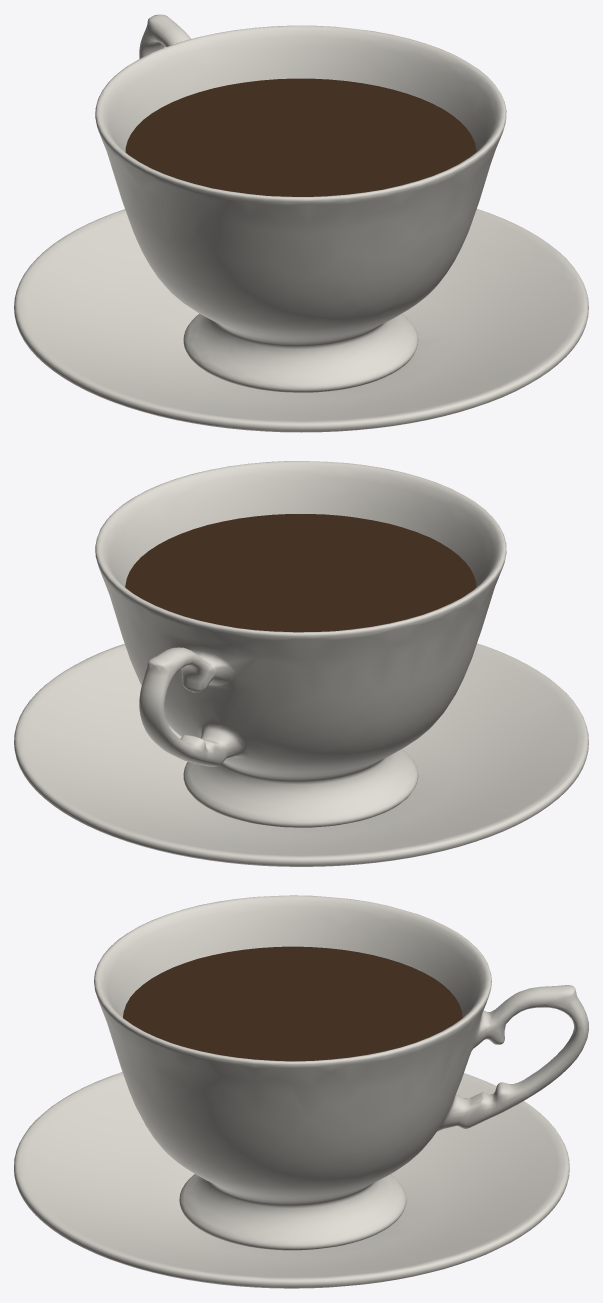
The model's file is coffee-cup.glb.
3 views of the same model, one above another, from view 1: azimuth 30°, elevation 25°; view 2: azimuth 150°, elevation 25°; view 3: azimuth 270°, elevation 25° (orthographic). The views are drawn at different scales.
Parts seen in each view (by area): view 1: tea_cup, tea_saucer, coffee_surface; view 2: tea_cup, tea_saucer, coffee_surface; view 3: tea_cup, tea_saucer, coffee_surface.
Part boxes in pixels (<box>): tea_cup: <box>95,14,506,392</box>; tea_saucer: <box>14,209,588,432</box>; coffee_surface: <box>125,78,476,196</box>; tea_cup: <box>95,461,506,827</box>; tea_saucer: <box>14,643,588,866</box>; coffee_surface: <box>125,514,476,632</box>; tea_cup: <box>94,895,588,1250</box>; tea_saucer: <box>14,1072,569,1288</box>; coffee_surface: <box>123,946,462,1061</box>.
Bounding box in the file's own units: 0.1486 × 0.0704 × 0.1537.
